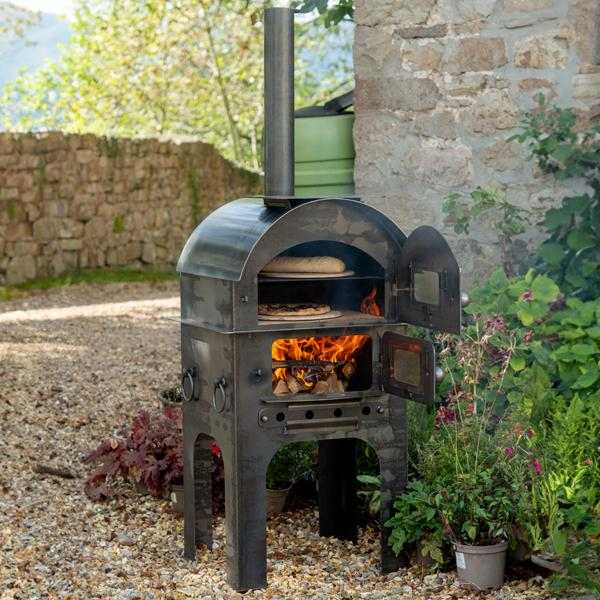controlled_fire: (262, 324, 396, 410)
